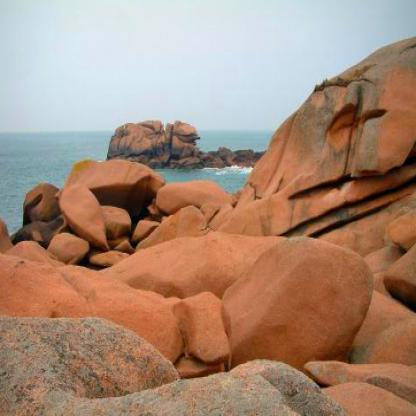Igneous_Granite: (224, 227, 381, 359), (271, 72, 356, 209), (87, 290, 179, 367), (1, 246, 68, 330), (60, 156, 158, 206)
